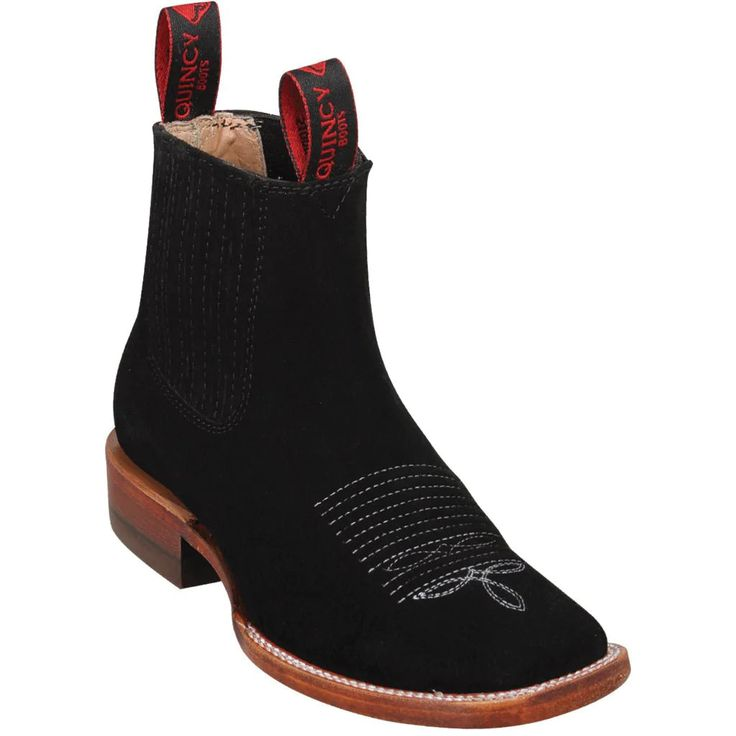gamuza: (112, 109, 609, 695)
